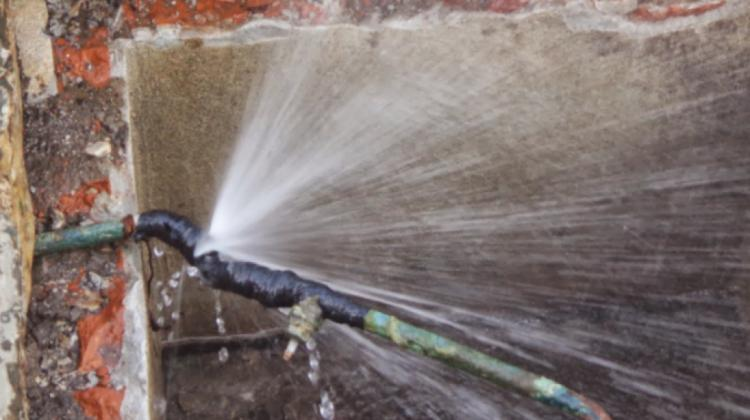pipe burst: (194, 0, 750, 420)
water drop: (320, 393, 336, 419), (308, 357, 319, 371), (218, 348, 228, 363), (305, 338, 317, 350), (309, 373, 318, 387)
